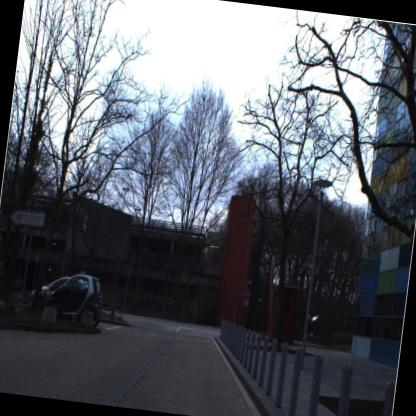mandatory: (242, 274, 254, 290)
other: (240, 289, 252, 301)
